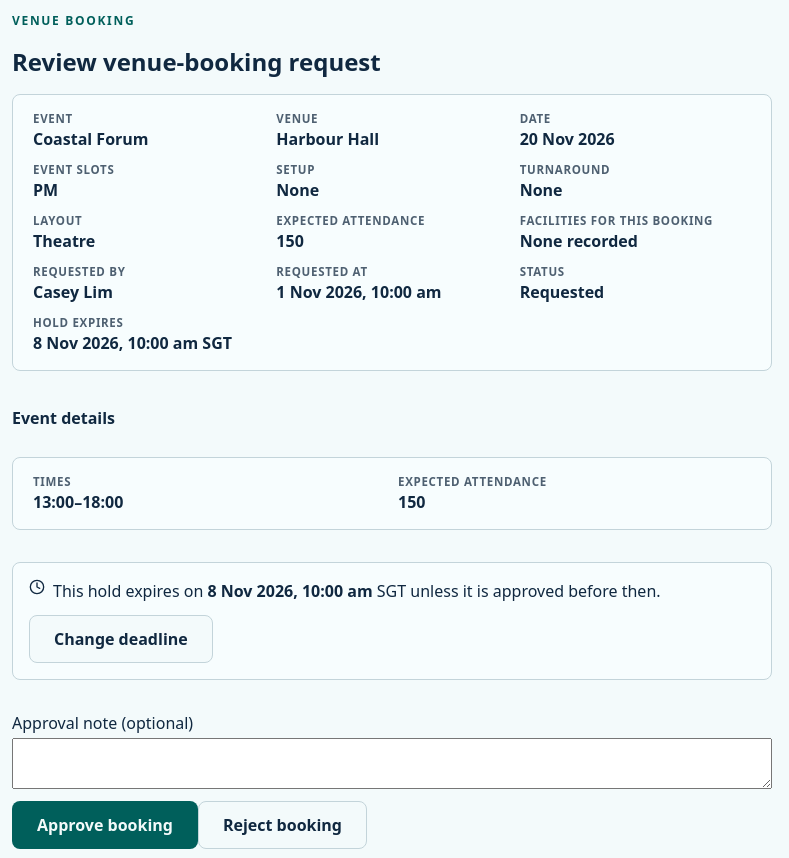
Test case: [QA-SPL-133-092] a refused change shows the reason and Keep deadline sends nothing
The image size is (789, 858).
Click the button "Change deadline".
click(121, 639)  # box [29,615,213,663]
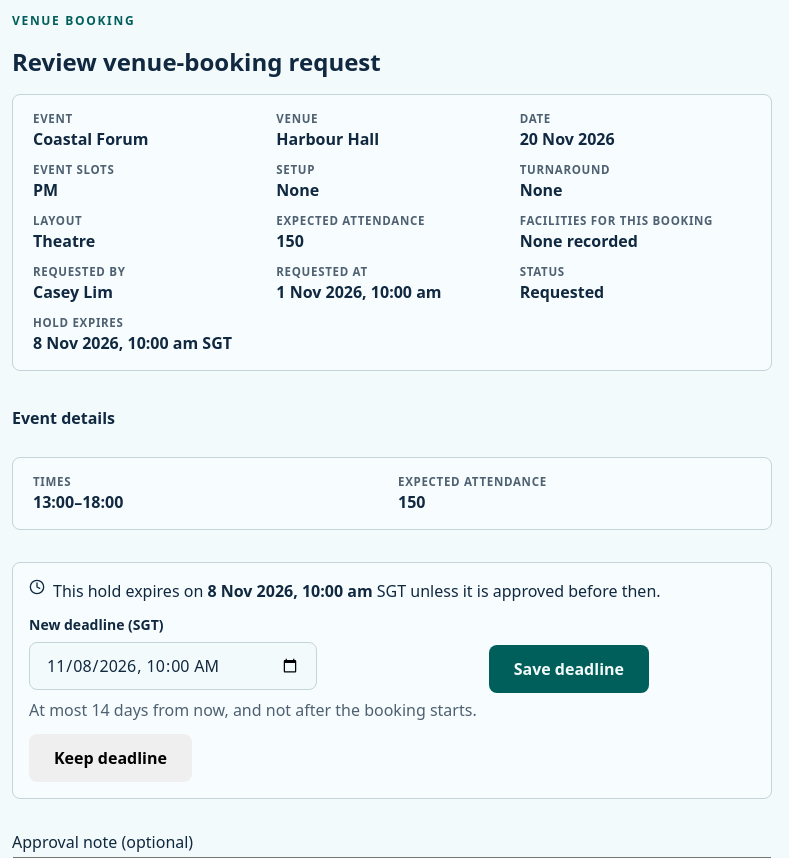
Click the button "Keep deadline".
click(110, 758)  # box [29,734,192,782]
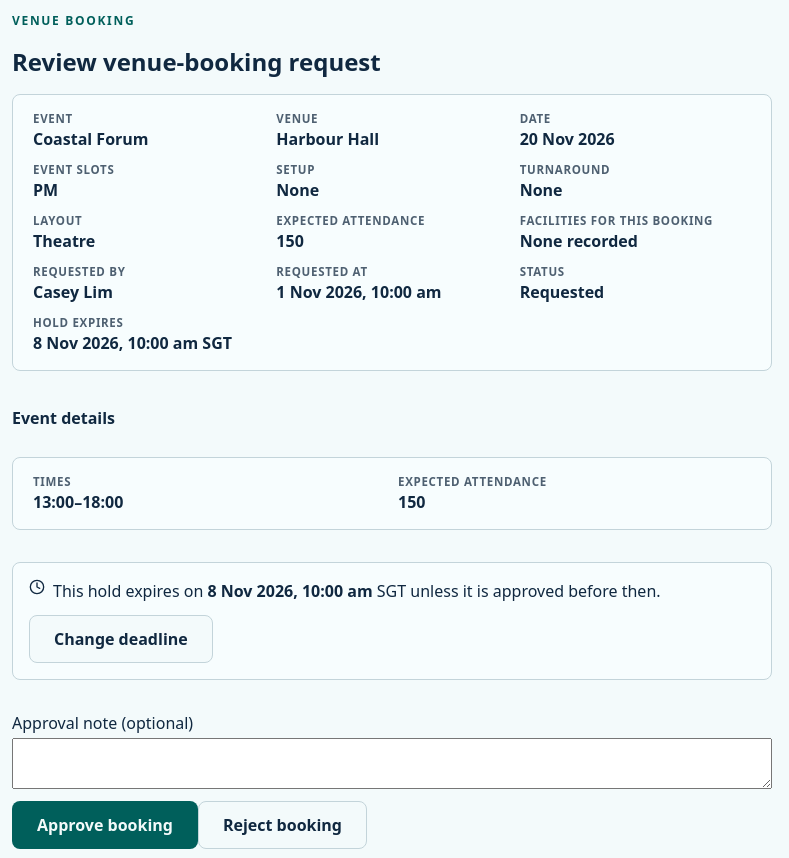
Click the button "Change deadline".
click(121, 639)  # box [29,615,213,663]
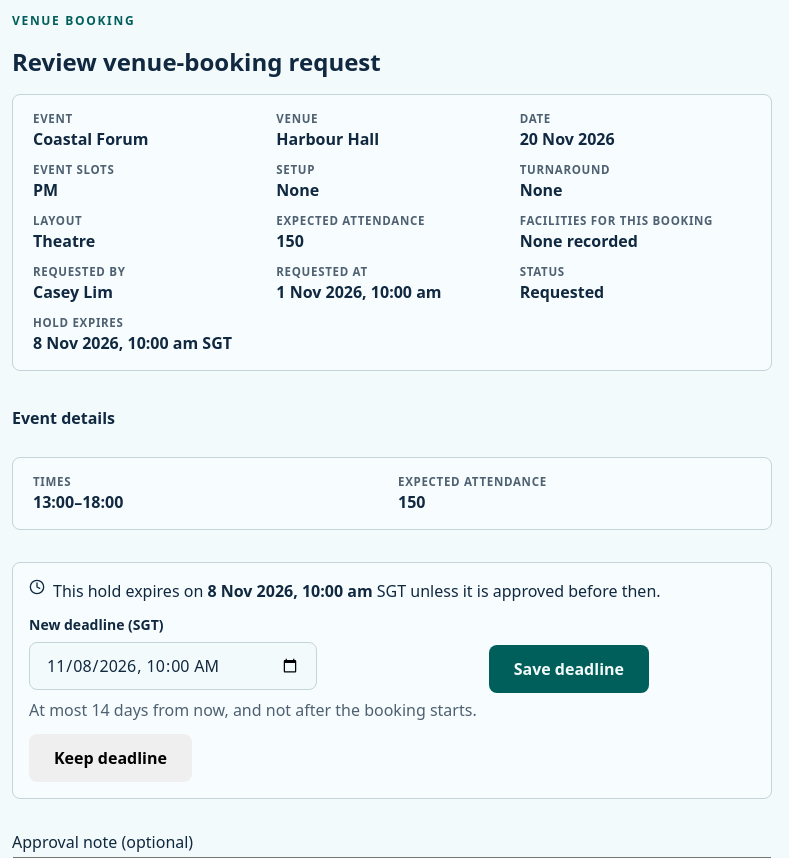
Click the button "Save deadline".
click(569, 668)  # box [489,644,649,692]
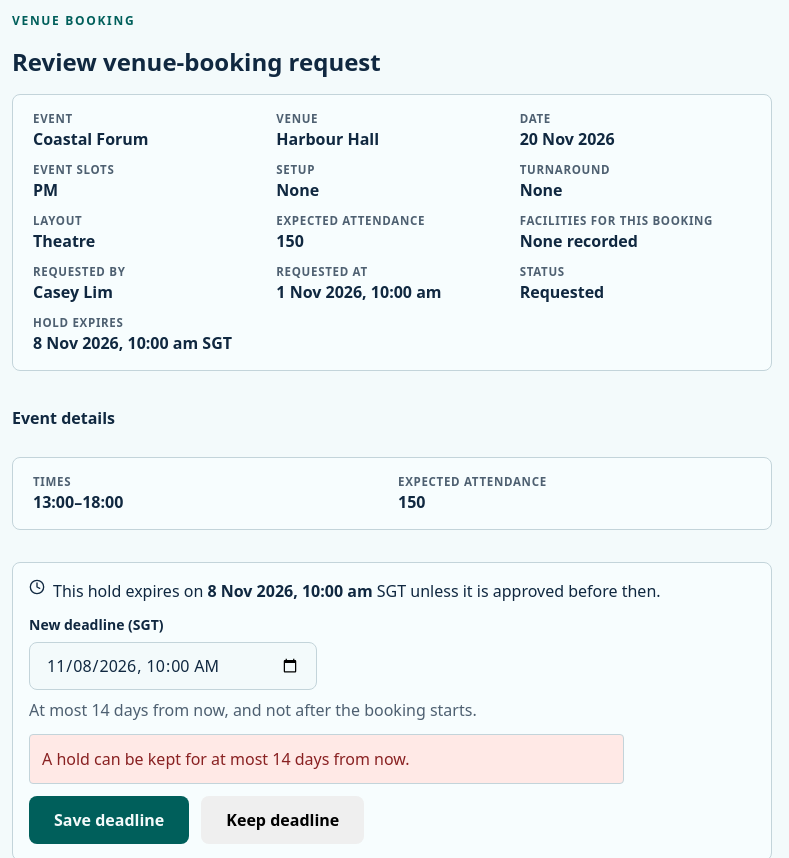
Expected: the message reads "A hold can be kept for at most 14 days from now.", [42,748,410,770]
